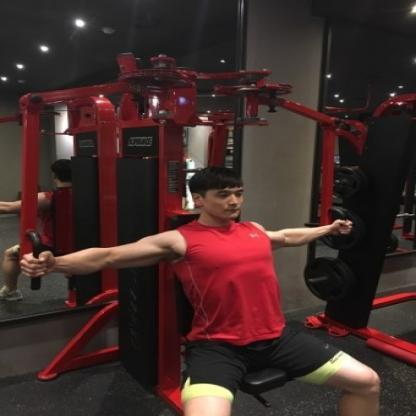chest fly machine: (0, 38, 416, 416)
